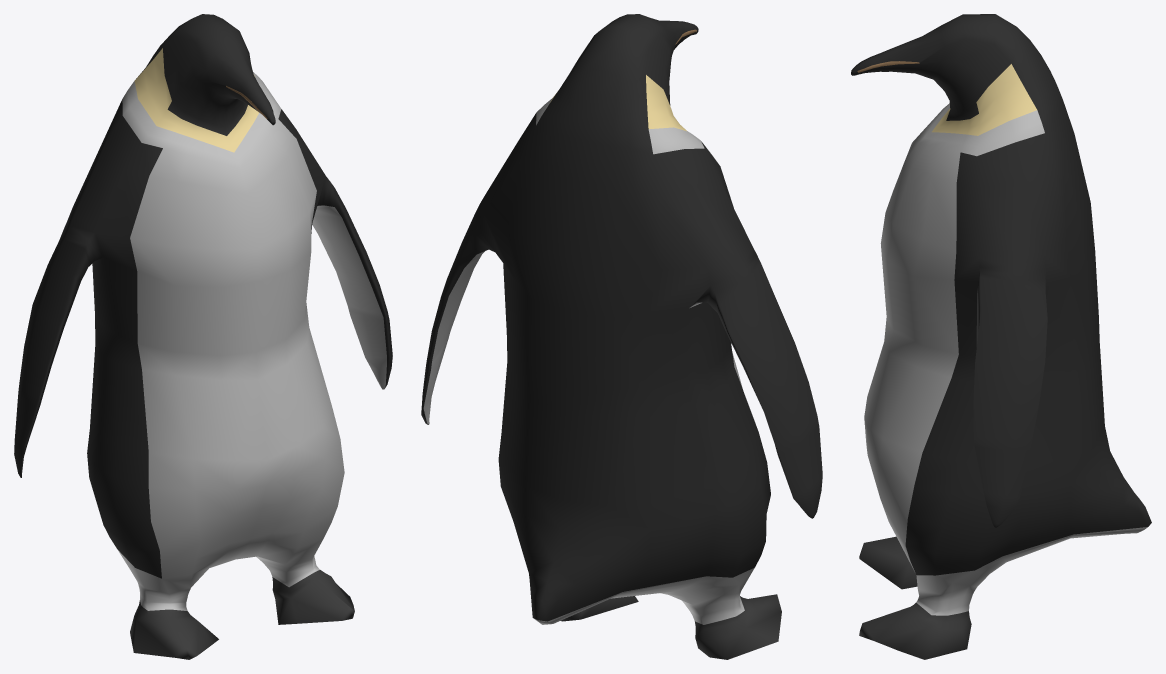
Rendered from pingu1_low.fbx.
The picture shows the model from 3 angles, left to right: view 1: azimuth 30°, elevation 25°; view 2: azimuth 150°, elevation 25°; view 3: azimuth 270°, elevation 25°; orthographic projection. The views are drawn at different scales.
Visible parts, largest first — view 1: polySurface1; view 2: polySurface1; view 3: polySurface1.
Part boxes in pixels (x1,y1,x2,y2): polySurface1: (14, 14, 392, 659); polySurface1: (421, 14, 822, 659); polySurface1: (851, 14, 1151, 659).
Size of the model in its own units: 2.47 by 3.76 by 1.73.
